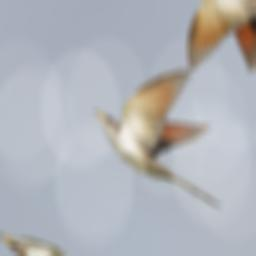Cuckoo: (81, 39, 256, 222)
